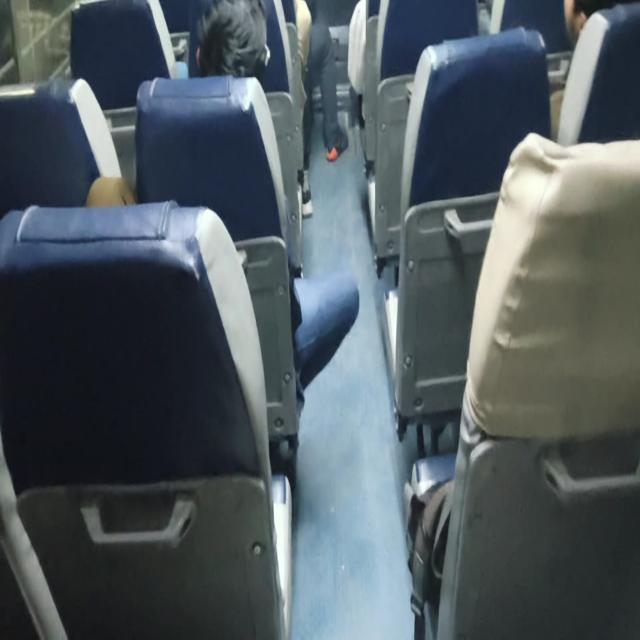person: (85, 1, 360, 414), (194, 0, 313, 218), (294, 1, 349, 162), (194, 0, 271, 85), (562, 0, 614, 47)
